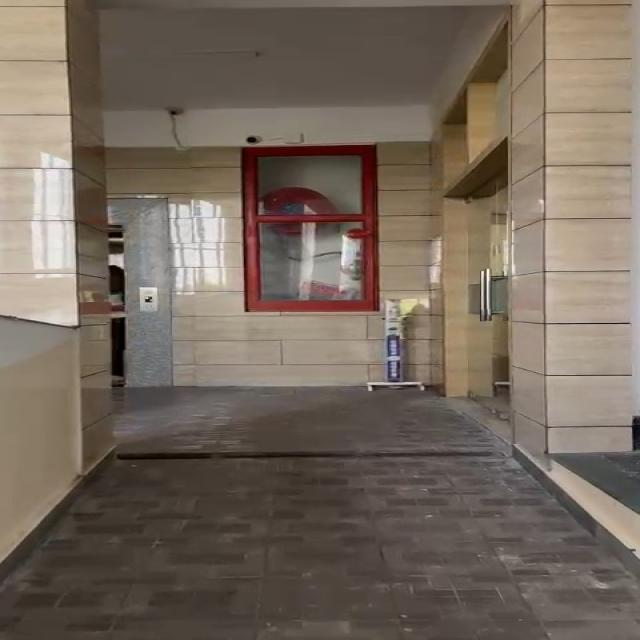door: (216, 130, 424, 329)
floor: (131, 376, 528, 640)
wall: (443, 11, 640, 480), (1, 0, 180, 474)
